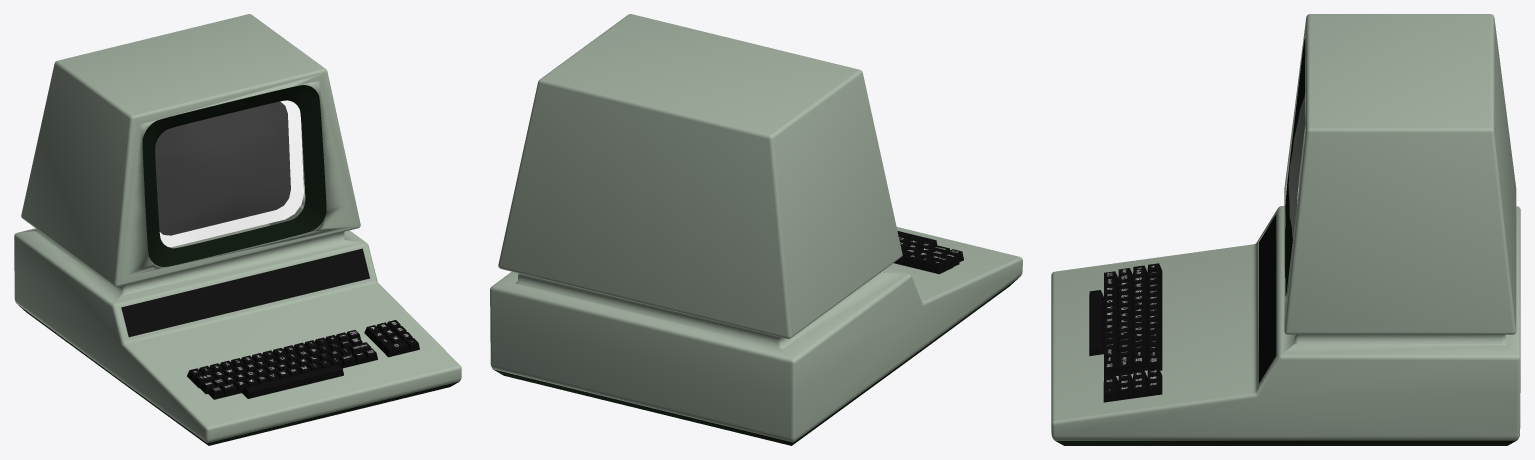
The model's file is computer.glb.
3 renders of one model, left to right at view 1: azimuth 30°, elevation 25°; view 2: azimuth 150°, elevation 25°; view 3: azimuth 270°, elevation 25°, orthographic. The views are drawn at different scales.
Visible parts, largest first — view 1: Computer, ComputerScreen, Keyboard, ComputerScreen2; view 2: Computer, Keyboard; view 3: Computer, Keyboard, ComputerScreen2, ComputerScreen.
Part boxes in pixels (x1,y1,x2,y2): Computer: [14, 14, 461, 445]; ComputerScreen: [155, 100, 304, 247]; Keyboard: [187, 320, 419, 399]; ComputerScreen2: [121, 248, 369, 337]; Computer: [490, 14, 1022, 445]; Keyboard: [894, 231, 963, 274]; Computer: [1051, 14, 1520, 445]; Keyboard: [1089, 263, 1162, 402]; ComputerScreen2: [1258, 214, 1276, 383]; ComputerScreen: [1289, 96, 1304, 236].
Size of the model in its own units: 1.99 by 1.86 by 2.61.
6 materials, 1 textured.
